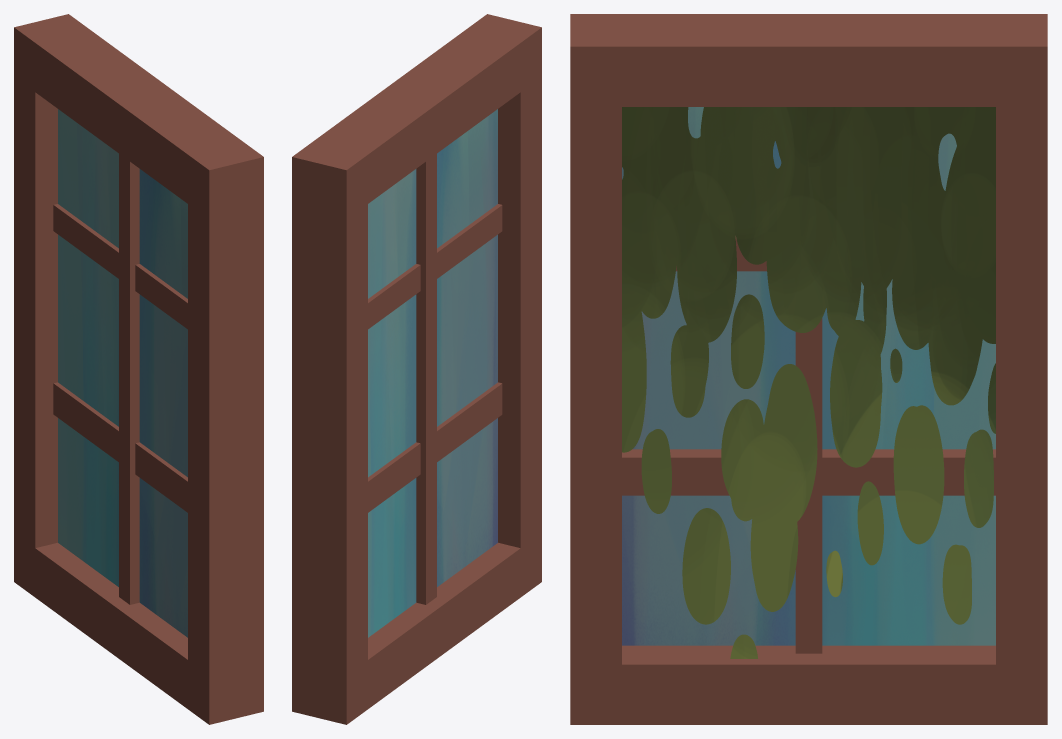
Rendered from Window_With trees.fbx.
The picture shows the model from 3 angles, left to right: view 1: azimuth 30°, elevation 25°; view 2: azimuth 150°, elevation 25°; view 3: azimuth 270°, elevation 25°; orthographic projection. The views are drawn at different scales.
Visible parts, largest first — view 1: Cube.011, window_.004; view 2: Cube.011, window_.004; view 3: Cube.011, window_.001, window_.004.
Part boxes in pixels (box(x1,y1,x2,y2)): Cube.011: box(14, 14, 263, 724); window_.004: box(58, 109, 187, 637); Cube.011: box(292, 14, 541, 724); window_.004: box(368, 109, 497, 637); Cube.011: box(570, 14, 1047, 724); window_.001: box(622, 107, 995, 658); window_.004: box(622, 107, 995, 645).
Size of the model in its own units: 36.76 by 357 by 227.
